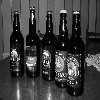beer: (10, 9, 25, 78)
